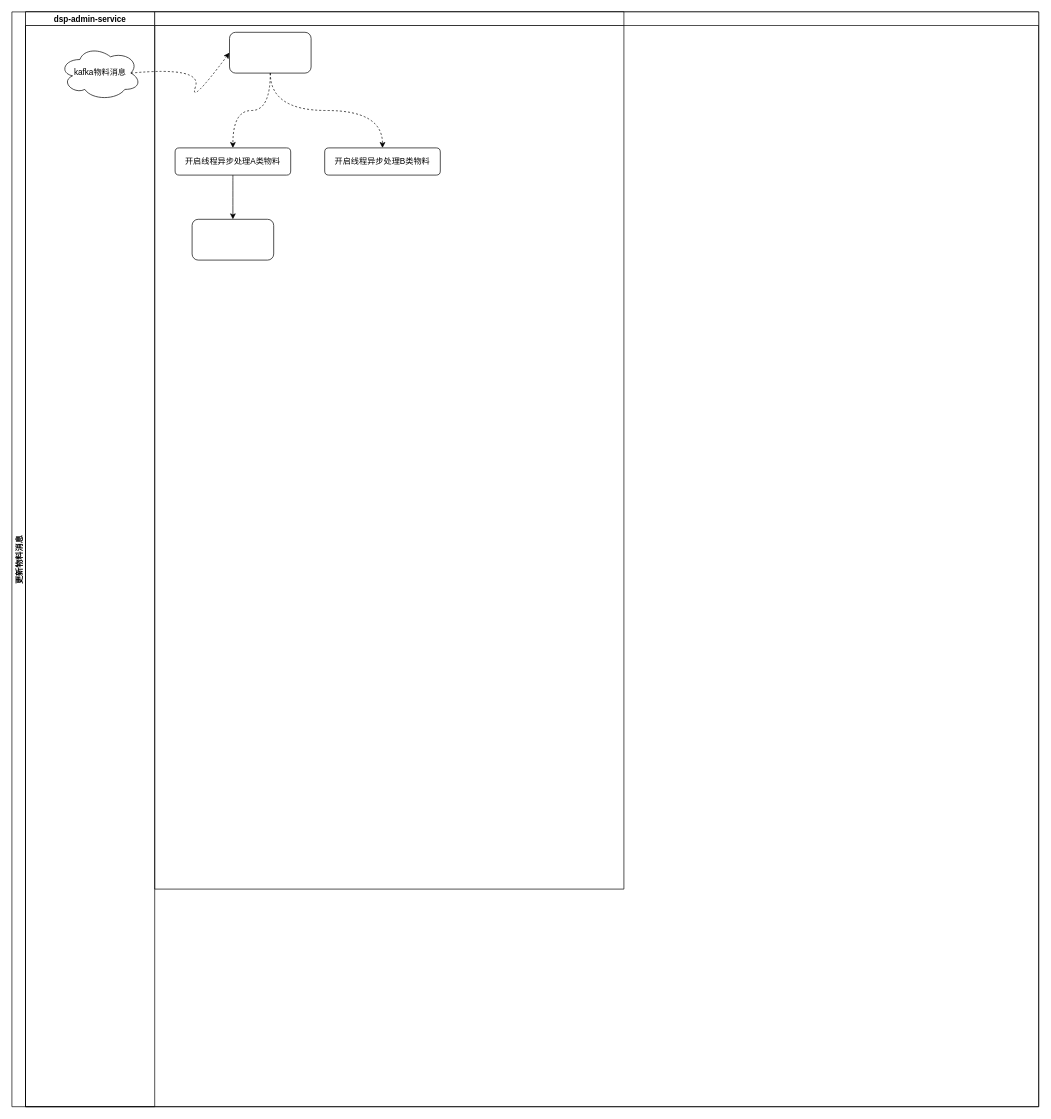
Image size: 1051x1119. Some labels were removed from this diagram. The box of each missing label's shape, as (x1, y1, x2, y2) in pixels:
KafkaMaterialListener: (154, 11, 624, 889)
自旋获取分布式锁: (191, 219, 274, 260)
获取要更新的物料: (229, 32, 311, 73)
